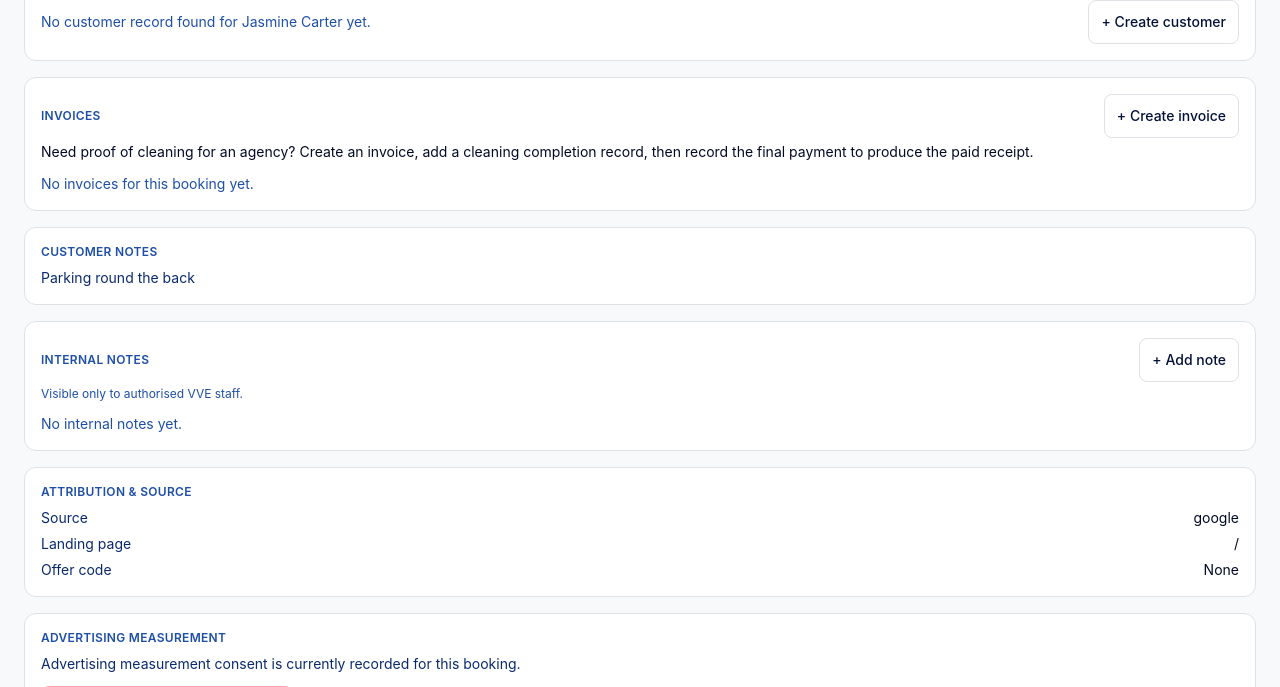
Scenario: BookingDetailPage › internal notes › shows an error state and keeps the modal open when saving a note fails
(page scrolled)
Expected: the text "No internal notes yet." is shown, [41, 415, 182, 432]
Click the button "+ Add note" at (1189,360), box [1139, 338, 1239, 382]
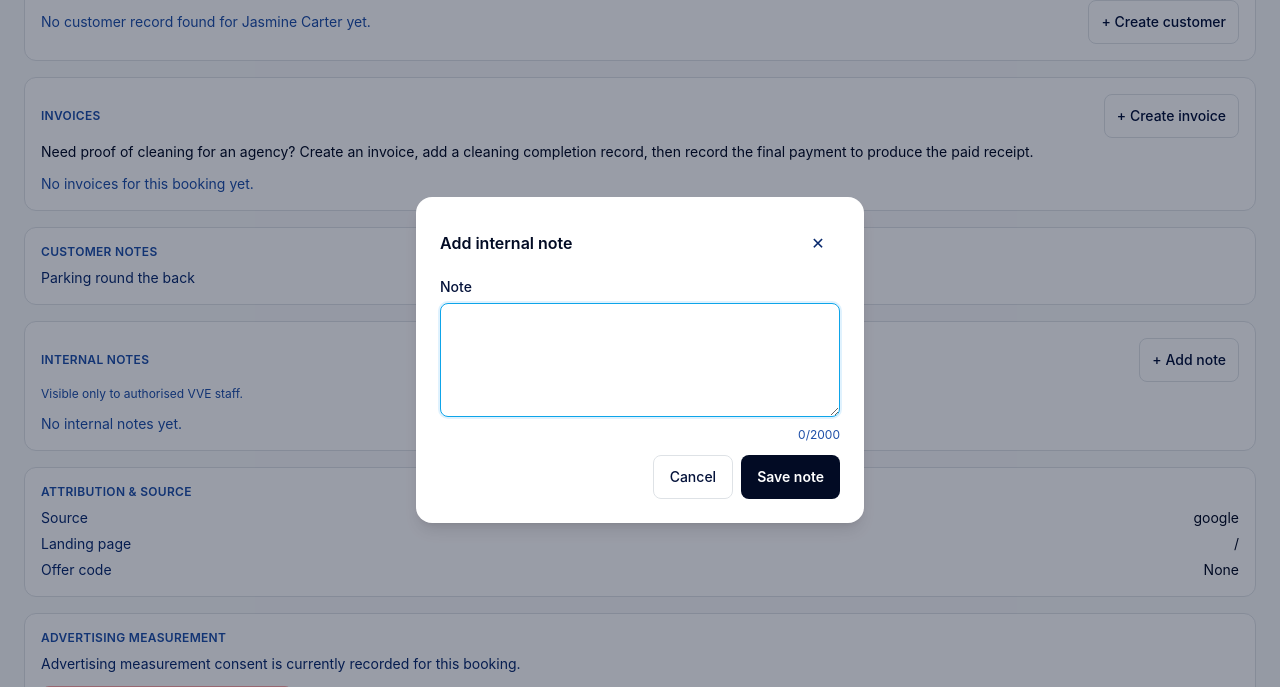
Type "A note" into the text box labelled "Note" at (640,360), box [440, 303, 840, 417]
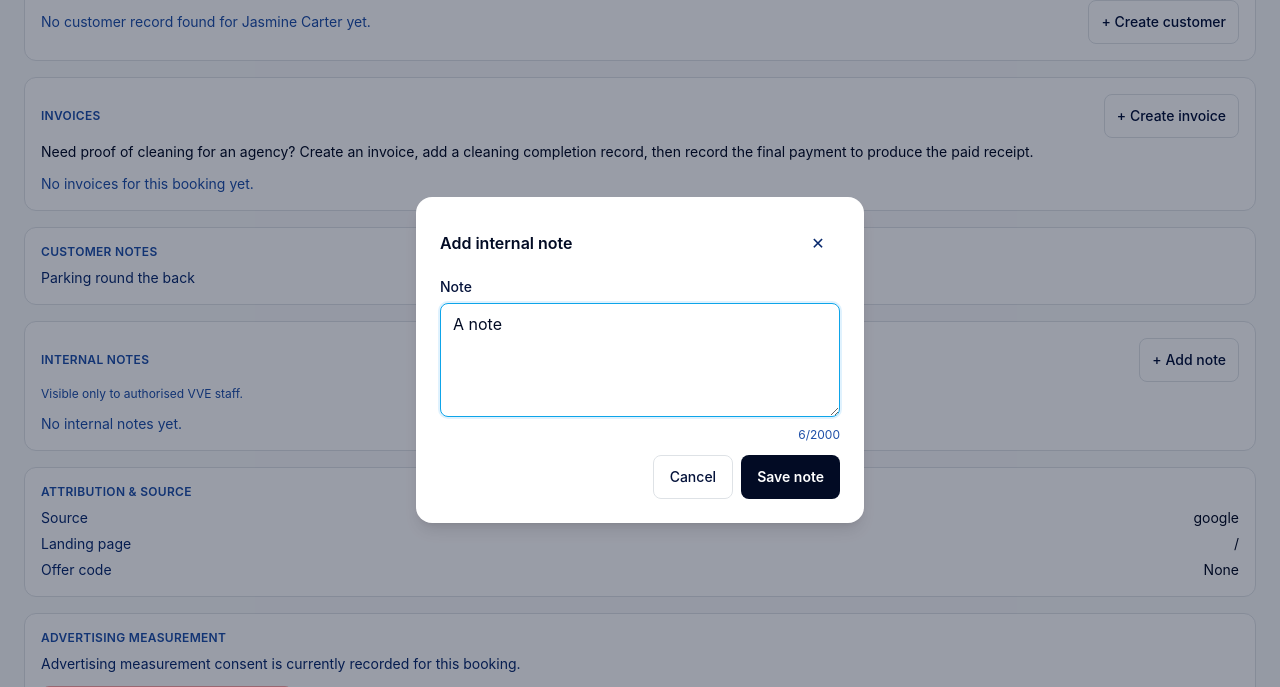
Click the button "Save note" at (791,477), box [741, 455, 840, 499]
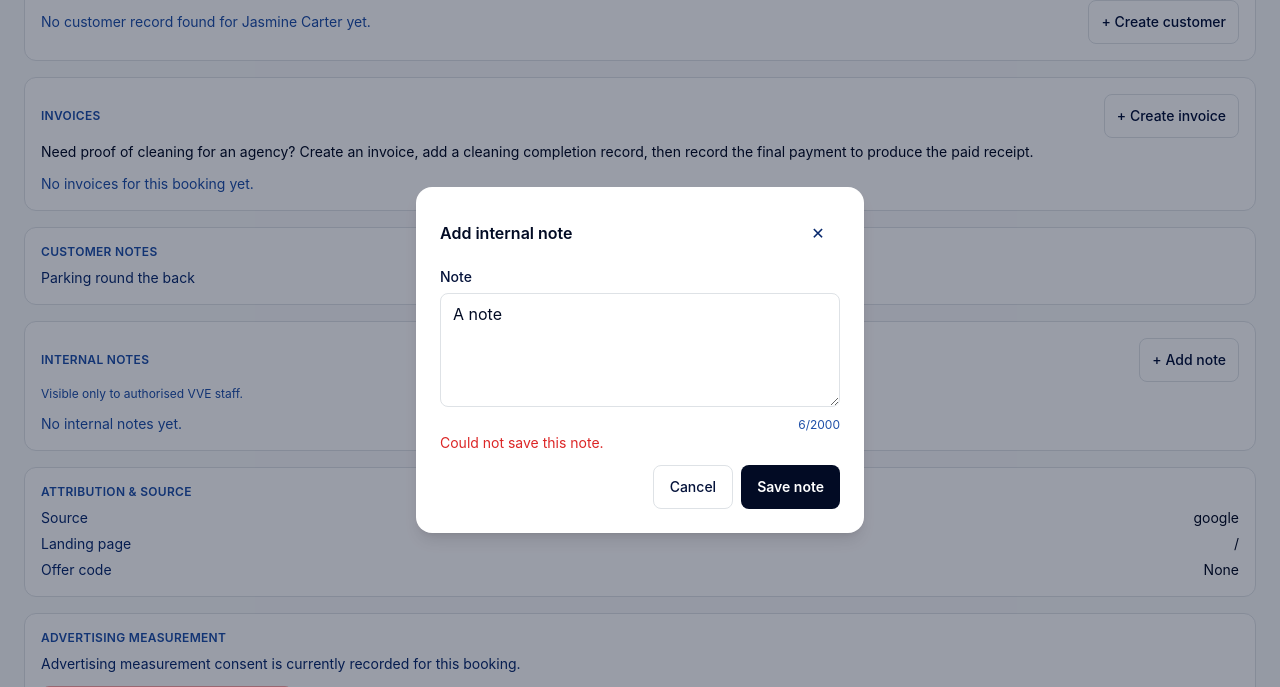
Result: the dialog is shown at [416, 187, 864, 533]
Result: the text "Could not save this note." is shown at [440, 434, 604, 451]
